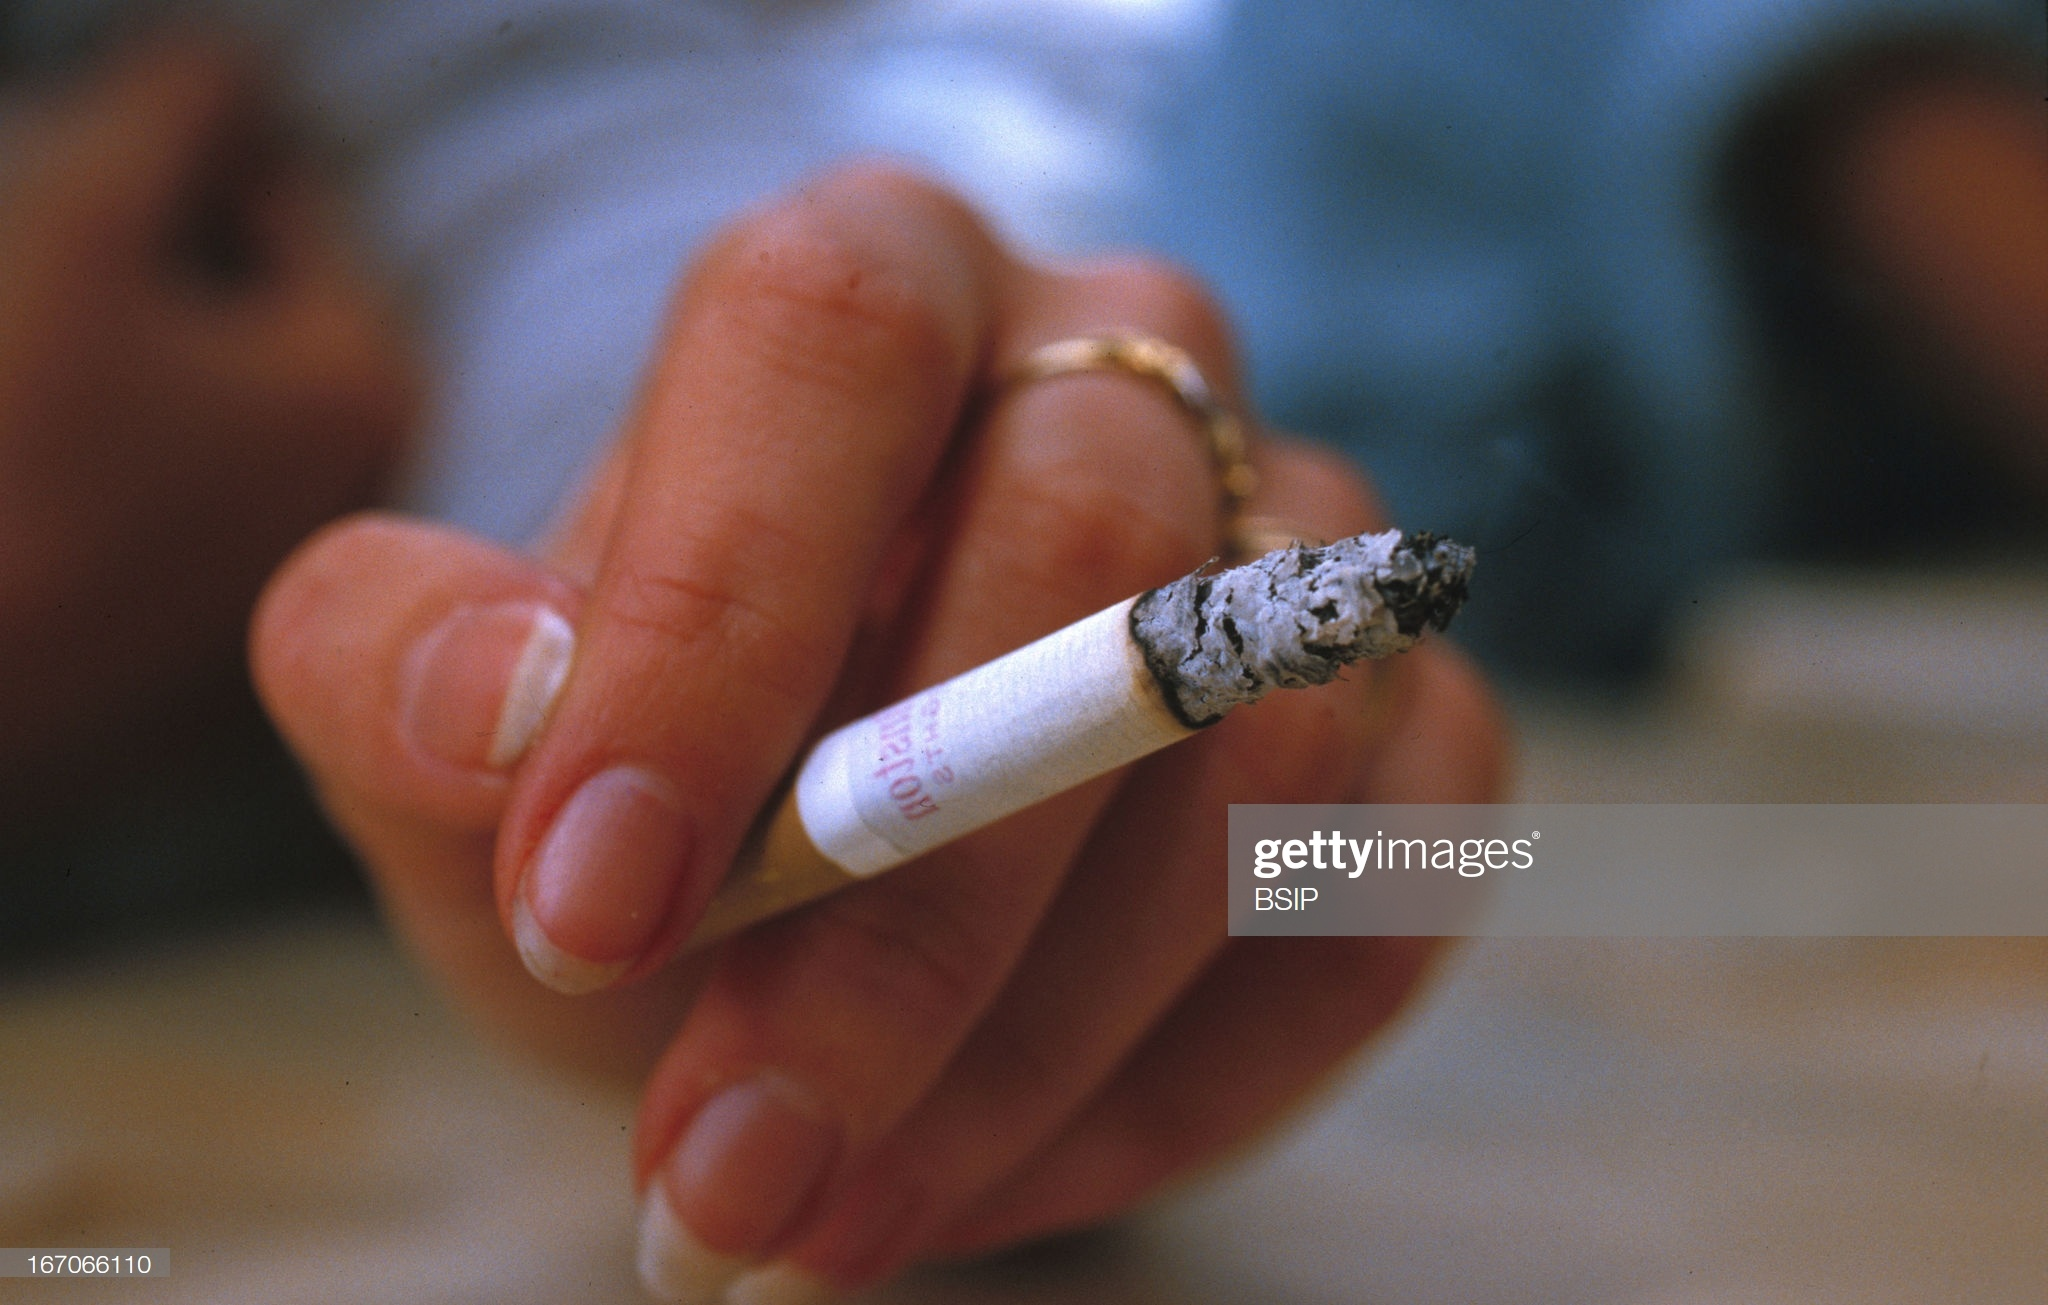sigaretta: (590, 502, 1476, 944)
